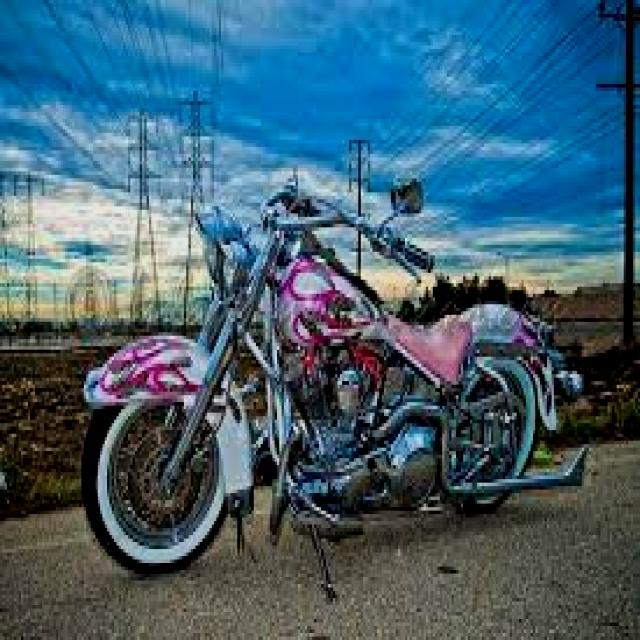MOTORCYCLE: (80, 193, 583, 579)
